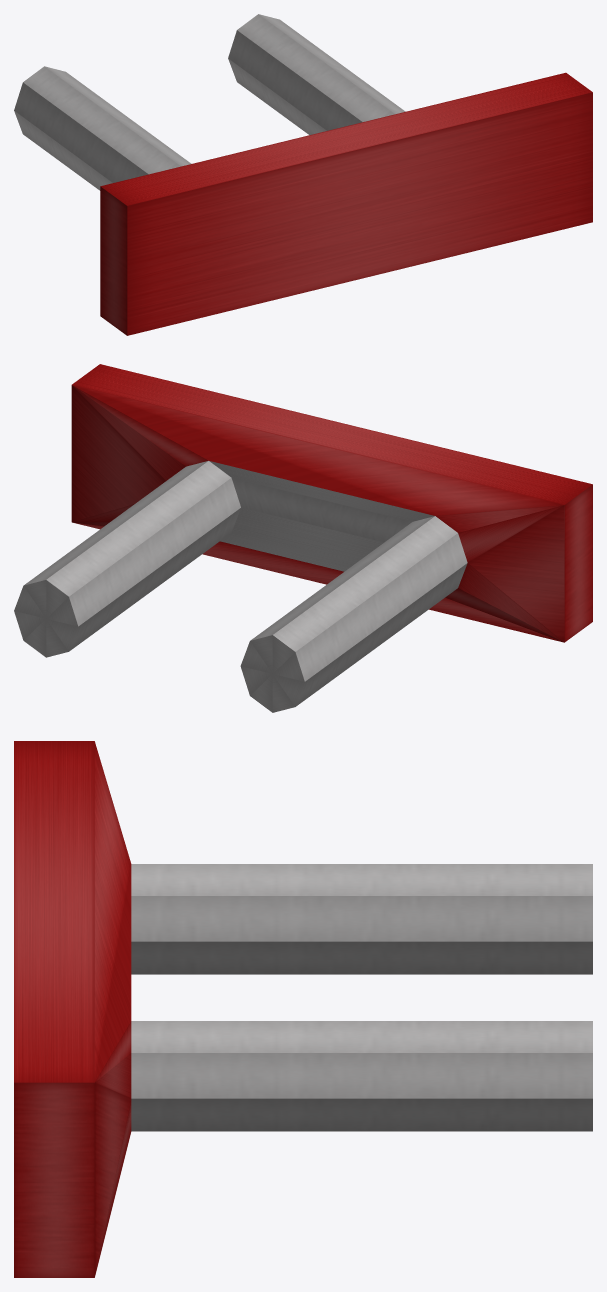
The model's file is pushbar.obj.
3 views of the same model, one above another, from view 1: azimuth 30°, elevation 25°; view 2: azimuth 150°, elevation 25°; view 3: azimuth 270°, elevation 25° (orthographic). The views are drawn at different scales.
Parts seen in each view (by area): view 1: pushbar; view 2: pushbar; view 3: pushbar.
Boxes of the visible parts, x1=… form: pushbar: x1=14, y1=14, x2=592, y2=335; pushbar: x1=14, y1=364, x2=592, y2=712; pushbar: x1=14, y1=741, x2=592, y2=1277.
Size of the model in its own units: 1.5 by 0.4 by 1.08.
Materials: 1 (1 with a texture image).
